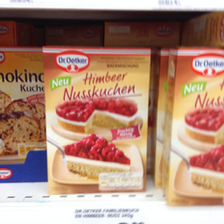cake: (42, 46, 151, 196), (161, 45, 224, 205)
